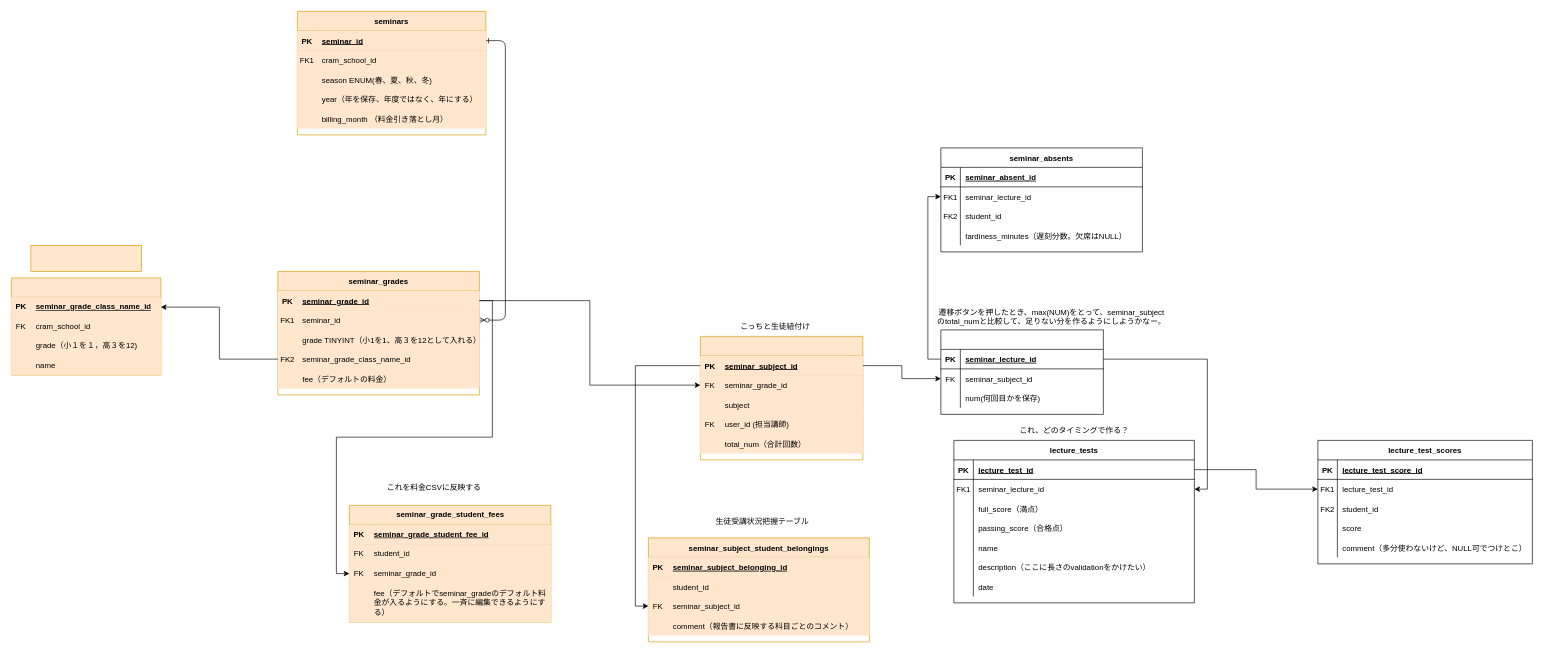
This 1544x653 diagram has some shape labels left out. Each missing label, with the box of its shape:
seminar_grade_class_names: (11, 277, 161, 375)
seminar_lectures: (940, 329, 1103, 414)
seminar_subjects: (700, 336, 863, 460)
クラス名は別のテーブルで 教室、学年ごと: (30, 245, 141, 271)
